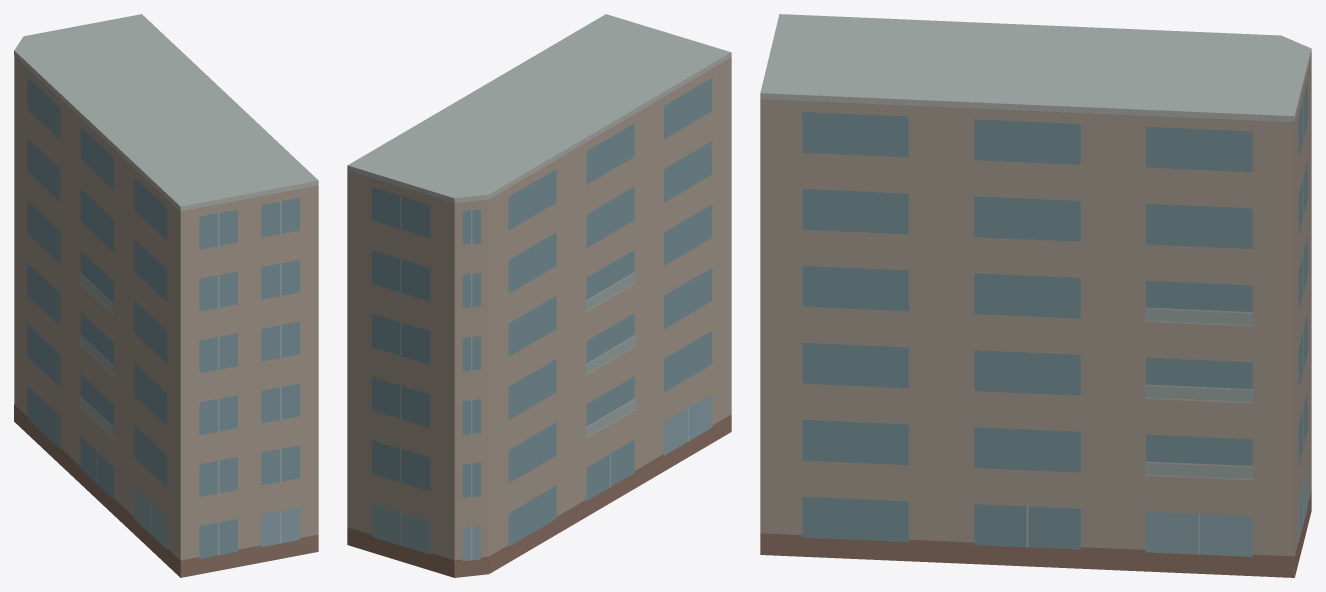
Rendered from survey-upis-32931970.glb.
3 renders of one model, left to right at view 1: azimuth 30°, elevation 25°; view 2: azimuth 150°, elevation 25°; view 3: azimuth 270°, elevation 25°, orthographic. The views are drawn at different scales.
Parts seen in each view (by area): view 1: survey-upis-32931970.tmp; view 2: survey-upis-32931970.tmp; view 3: survey-upis-32931970.tmp.
Boxes of the visible parts, bbox=[...] form: survey-upis-32931970.tmp: bbox=[14, 14, 318, 577]; survey-upis-32931970.tmp: bbox=[347, 14, 731, 577]; survey-upis-32931970.tmp: bbox=[760, 14, 1311, 577].
Size of the model in its own units: 8.96 by 18.85 by 20.41.
